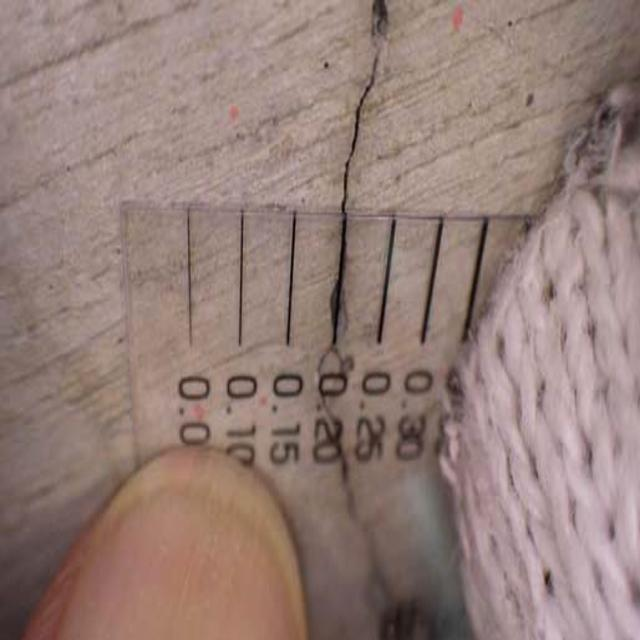crack: (313, 7, 403, 553)
